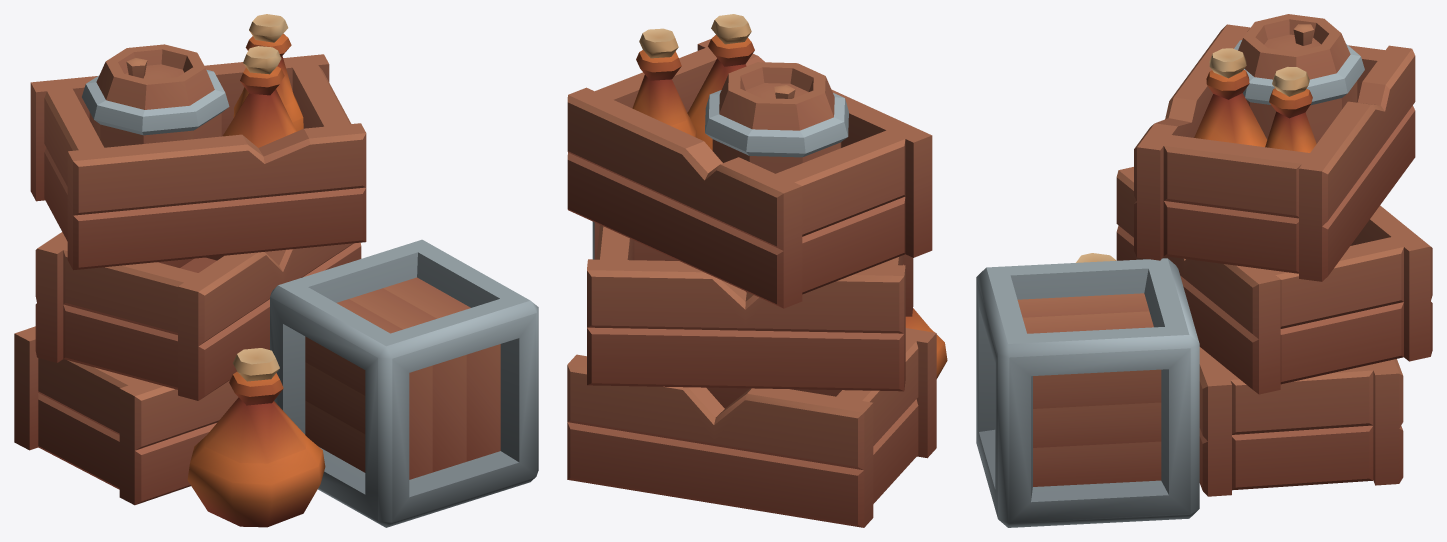
The model's file is crates.fbx.
3 views of the same model, side by side, from view 1: azimuth 30°, elevation 25°; view 2: azimuth 150°, elevation 25°; view 3: azimuth 270°, elevation 25° (orthographic). The views are drawn at different scales.
Parts seen in each view (by area): view 1: crates_stacked; view 2: crates_stacked; view 3: crates_stacked.
Part boxes in pixels (<box>): crates_stacked: <box>14,14,538,527</box>; crates_stacked: <box>567,14,947,527</box>; crates_stacked: <box>976,14,1432,527</box>.
Size of the model in its own units: 209 by 214 by 225.
Materials: 1 (1 with a texture image).
